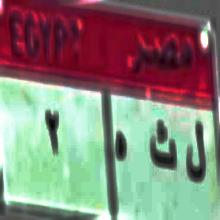2: (43, 106, 64, 156)
haa: (113, 128, 131, 162)
laam: (184, 119, 208, 189)
thaa: (149, 120, 177, 170)
